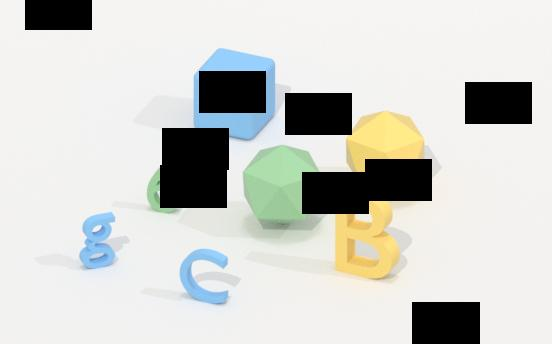6: (145, 158, 184, 217)
b: (329, 179, 402, 282)
c: (175, 243, 237, 309)
dagiac: (343, 107, 429, 192), (241, 143, 323, 225)
g: (77, 210, 119, 270)
hop: (189, 43, 280, 145)
